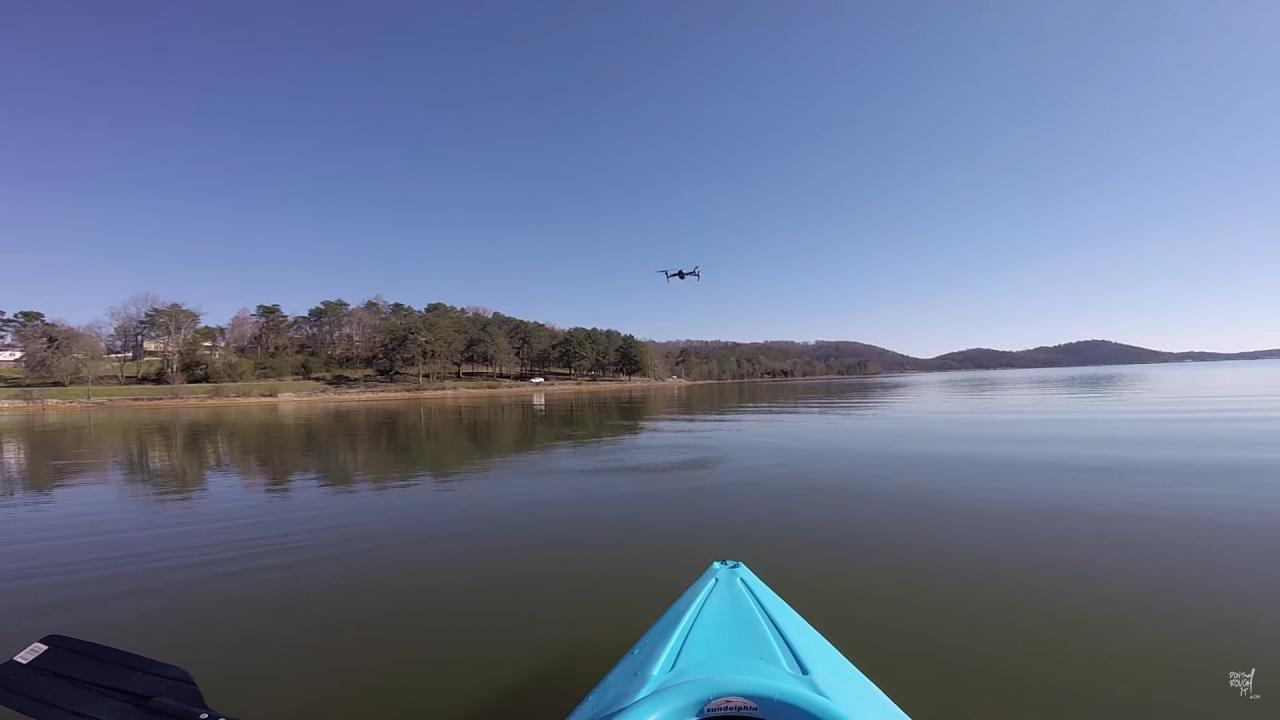Drone: (643, 257, 720, 290)
